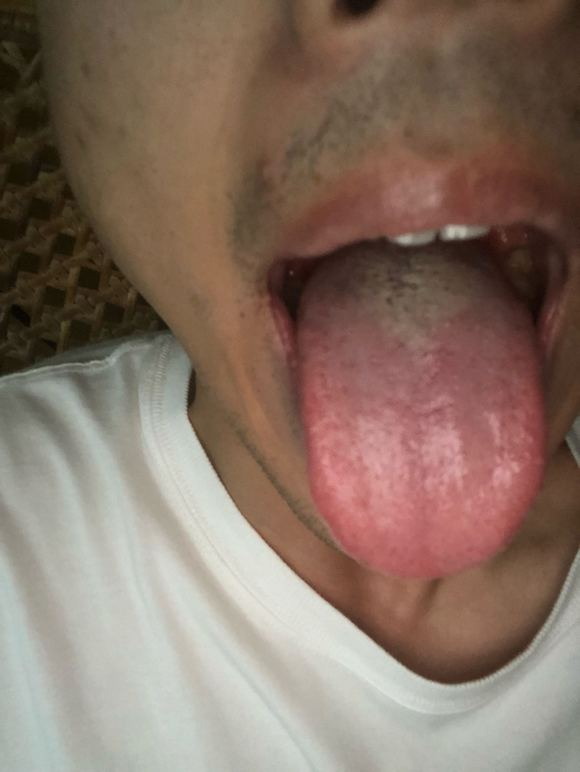hongshe: (295, 243, 547, 579)
huangtaishe: (295, 243, 547, 579)
